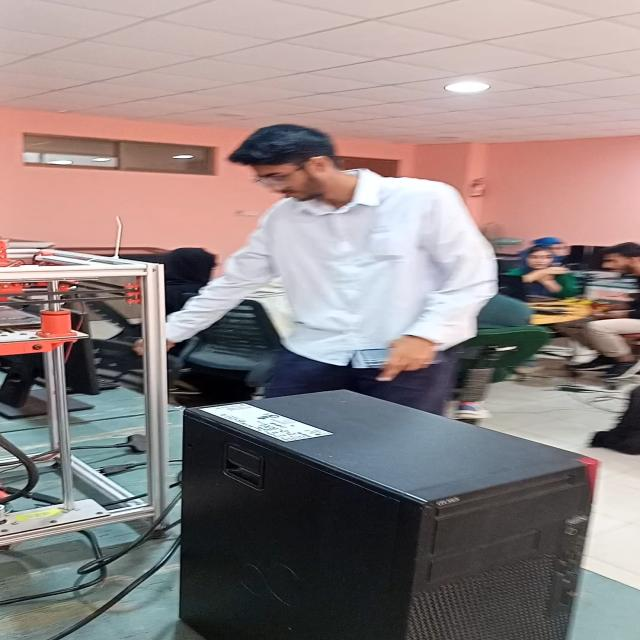dress: (162, 165, 508, 397)
